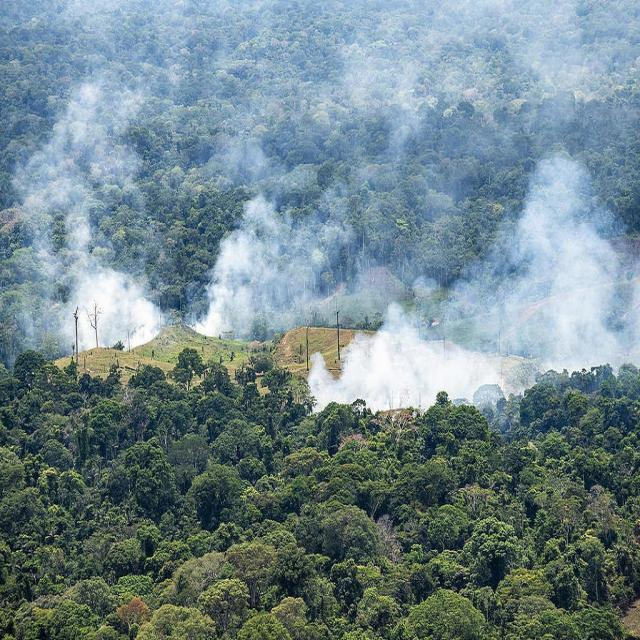smoke: (509, 204, 619, 360), (223, 240, 306, 322), (357, 335, 453, 404), (73, 276, 151, 346)
